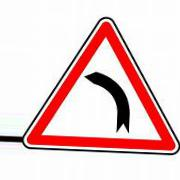left: (24, 16, 179, 156)
